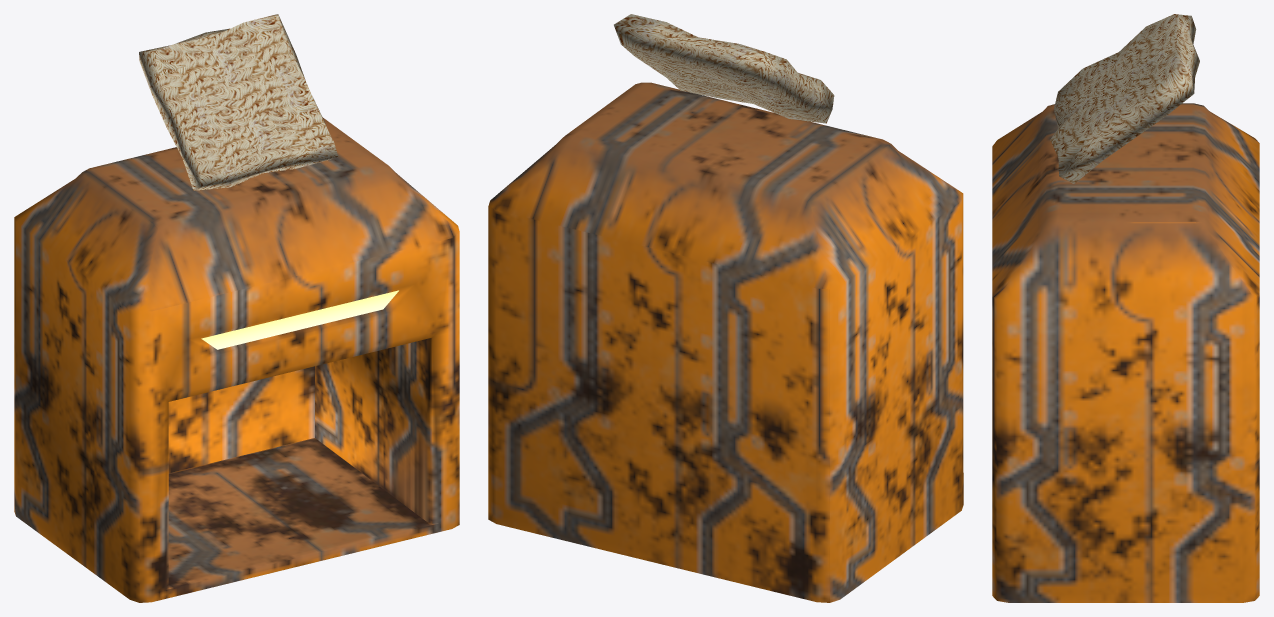
Rendered from ExpenderNoodles.glb.
3 renders of one model, left to right at view 1: azimuth 30°, elevation 25°; view 2: azimuth 150°, elevation 25°; view 3: azimuth 270°, elevation 25°, orthographic. The views are drawn at different scales.
Parts seen in each view (by area): view 1: Expender_Noodles; view 2: Expender_Noodles; view 3: Expender_Noodles.
Part boxes in pixels (x1,y1,x2,y2): Expender_Noodles: (14, 14, 459, 602); Expender_Noodles: (488, 14, 963, 602); Expender_Noodles: (992, 14, 1259, 602).
Bounding box in the file's own units: 0.9908 × 1.36 × 0.6796.
Materials: 3 (2 with a texture image).
